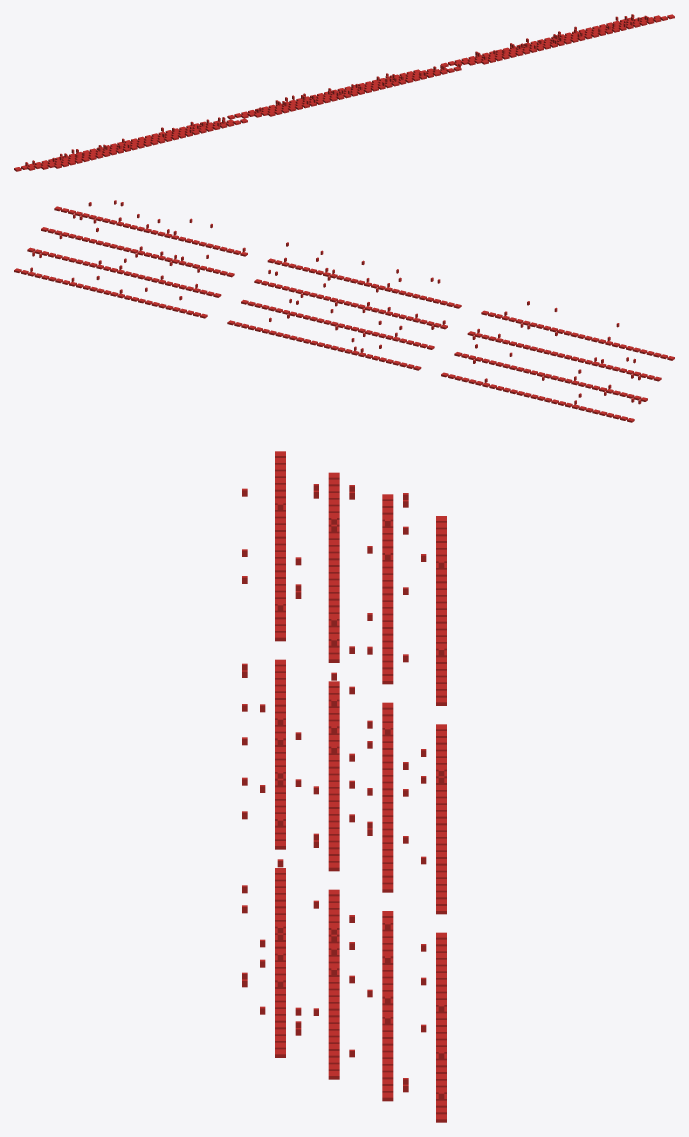
The model's file is SM_DK_05_Grandstand_steps_seating_and_crowd_red.fbx.
3 renders of one model, top to bottom at view 1: azimuth 30°, elevation 25°; view 2: azimuth 150°, elevation 25°; view 3: azimuth 270°, elevation 25°, orthographic. The views are drawn at different scales.
Visible parts, largest first — view 1: 05 Grandstand steps seating and crowd | red; view 2: 05 Grandstand steps seating and crowd | red; view 3: 05 Grandstand steps seating and crowd | red.
Boxes of the visible parts, box(x1,y1,x2,y2) form: 05 Grandstand steps seating and crowd | red: box(14, 14, 674, 171); 05 Grandstand steps seating and crowd | red: box(14, 200, 674, 422); 05 Grandstand steps seating and crowd | red: box(242, 451, 446, 1122).
Bounding box in the file's own units: 7179 × 1031 × 517.
